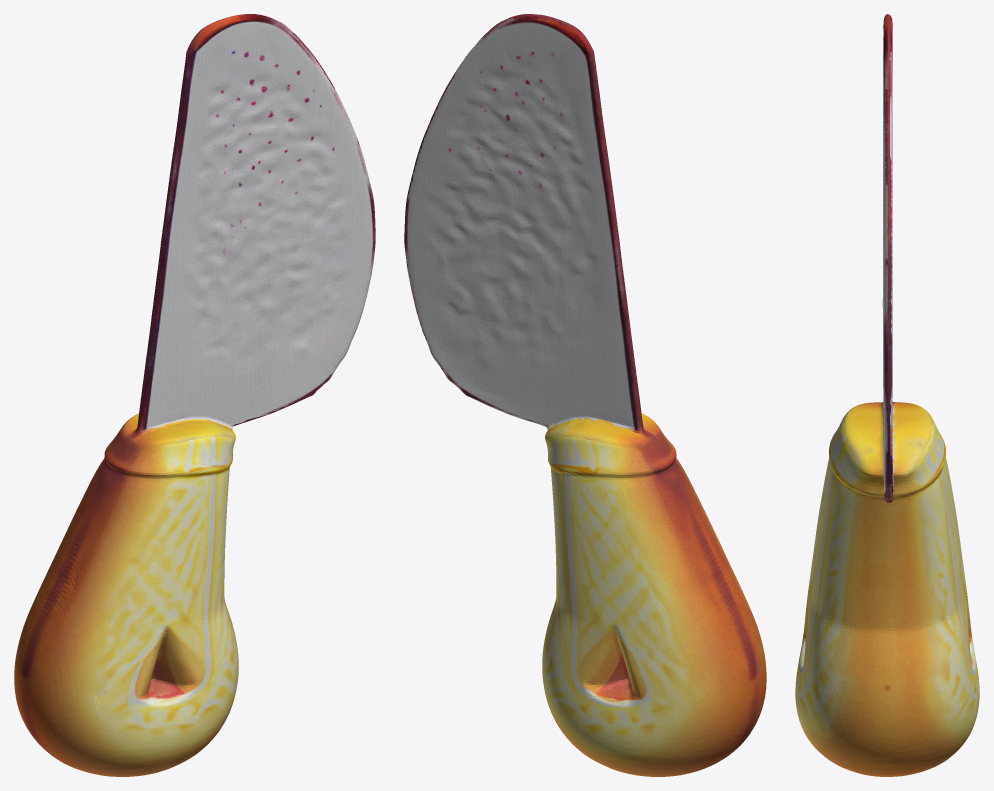
File: image_0005_segmented.glb
3 views of the same model, side by side, from view 1: azimuth 30°, elevation 25°; view 2: azimuth 150°, elevation 25°; view 3: azimuth 270°, elevation 25° (orthographic). The views are drawn at different scales.
Visible parts, largest first — view 1: tmpn197mh5r.ply; view 2: tmpn197mh5r.ply; view 3: tmpn197mh5r.ply.
Part boxes in pixels (x1=…): tmpn197mh5r.ply: x1=14, y1=14, x2=375, y2=776; tmpn197mh5r.ply: x1=404, y1=14, x2=766, y2=776; tmpn197mh5r.ply: x1=795, y1=14, x2=979, y2=776.
Bounding box in the file's own units: 1.01 × 1.99 × 0.4204.
1 material, 1 textured.
